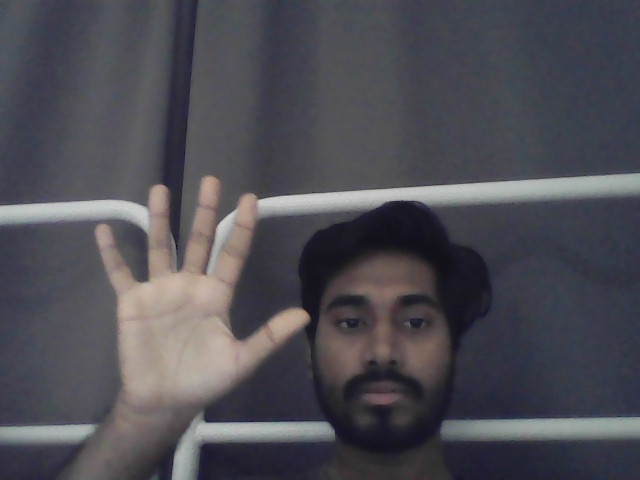hello: (92, 174, 312, 416)
